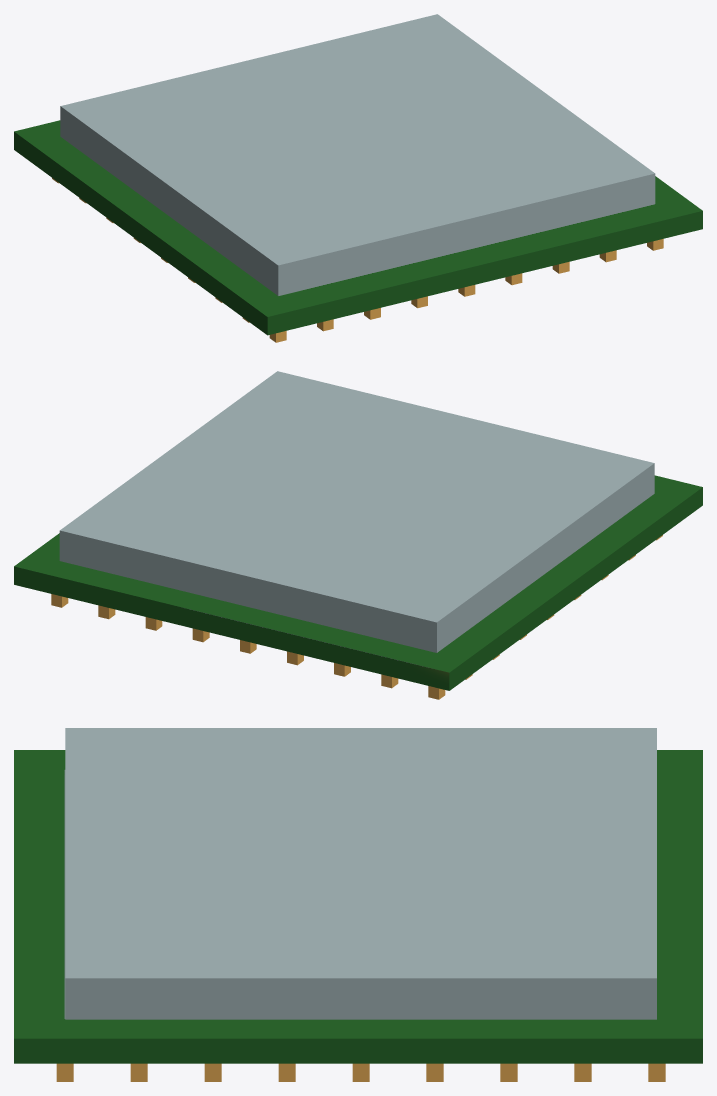
Rendered from cpu.glb.
3 renders of one model, top to bottom at view 1: azimuth 30°, elevation 25°; view 2: azimuth 150°, elevation 25°; view 3: azimuth 270°, elevation 25°, orthographic. The views are drawn at different scales.
Parts seen in each view (by area): view 1: CPU; view 2: CPU; view 3: CPU.
Part boxes in pixels (x1,y1,x2,y2): CPU: (14, 14, 702, 342); CPU: (14, 371, 702, 699); CPU: (14, 728, 702, 1081).
Size of the model in its own units: 2.31 by 0.3738 by 2.33.
Materials: 1 (1 with a texture image).
